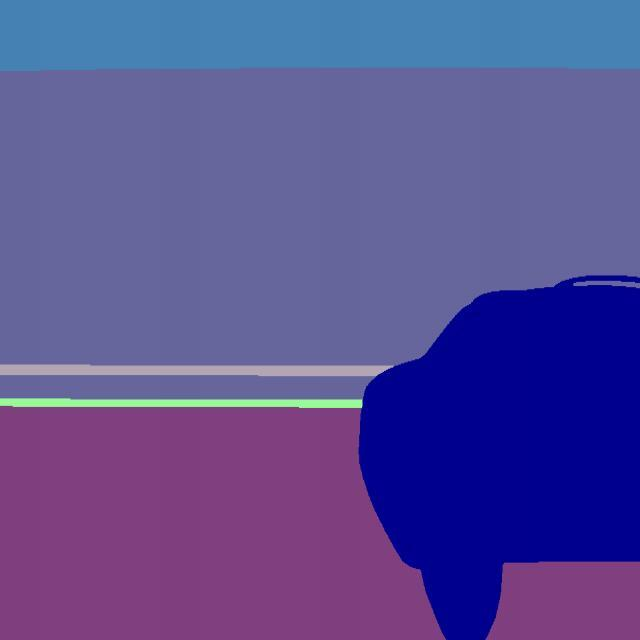unsafe: (355, 270, 640, 640)
